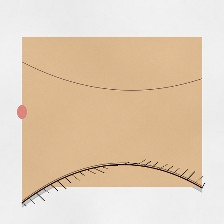hemorrhage_spot: (36, 79, 114, 142)
